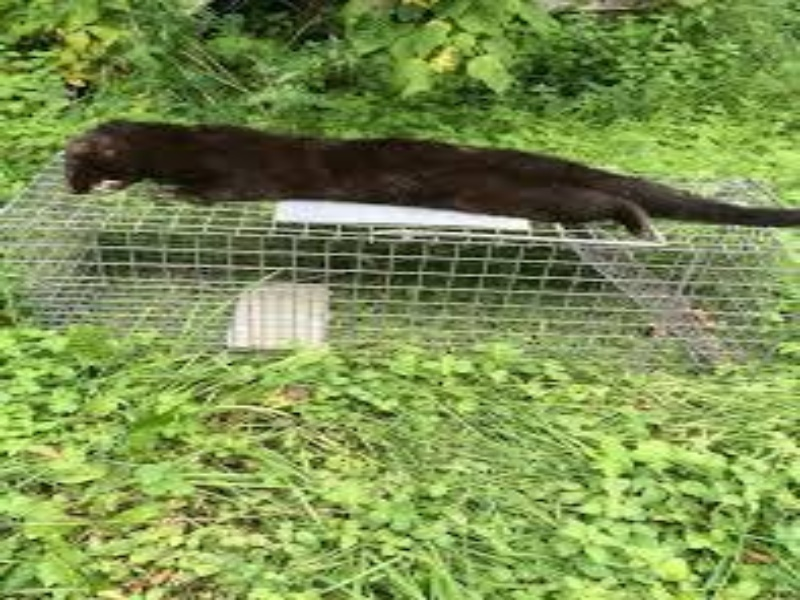minkish: (61, 116, 800, 242)
